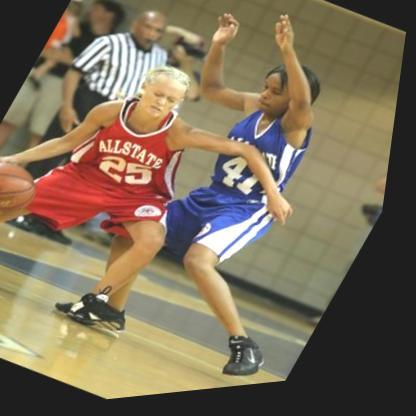basketball: (0, 146, 55, 226)
